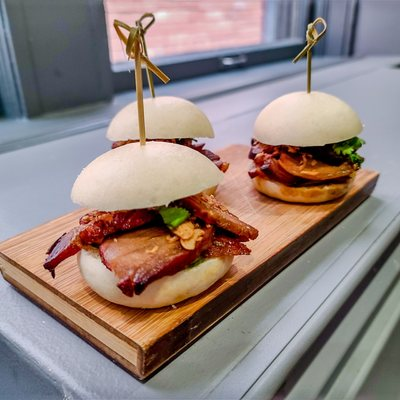soup: (43, 100, 260, 309), (247, 90, 367, 205)
